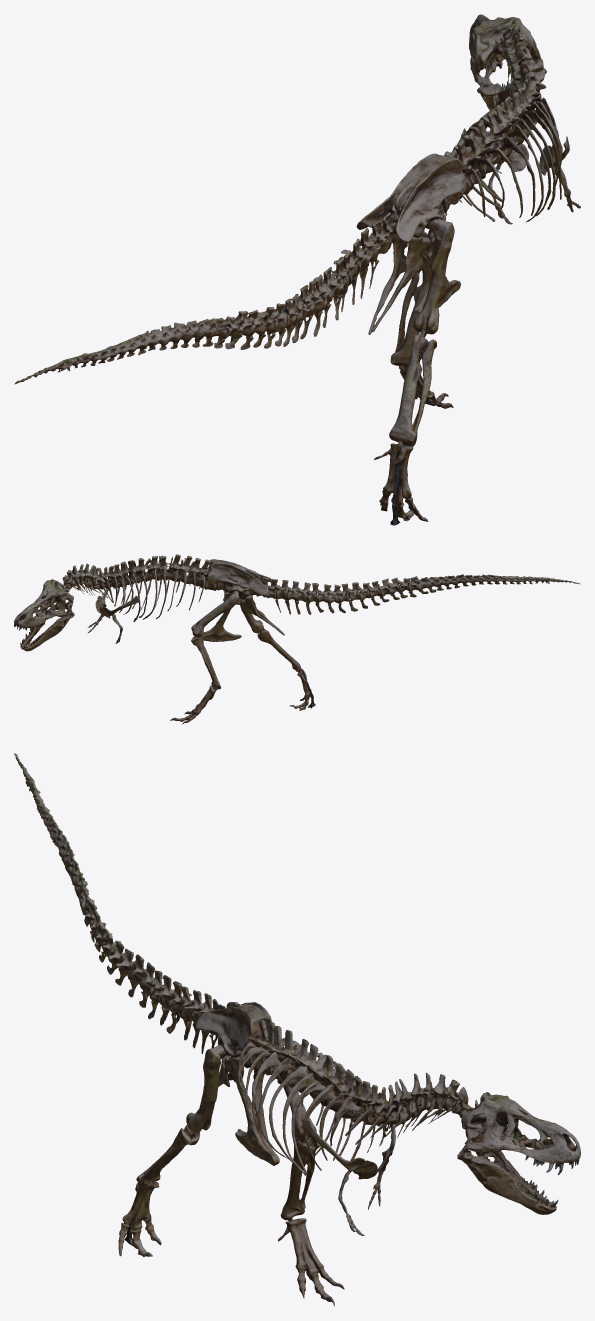
The model's file is guang.glb.
The picture shows the model from 3 angles, top to bottom: view 1: azimuth 30°, elevation 25°; view 2: azimuth 150°, elevation 25°; view 3: azimuth 270°, elevation 25°; orthographic projection. The views are drawn at different scales.
Parts seen in each view (by area): view 1: Object_2, Object_3, Object_4, Object_5; view 2: Object_2, Object_3, Object_4, Object_5; view 3: Object_2, Object_3, Object_4, Object_5.
Part boxes in pixels (bbox=[...]): Object_2: bbox=[14, 14, 572, 524]; Object_3: bbox=[15, 18, 579, 525]; Object_4: bbox=[16, 15, 580, 525]; Object_5: bbox=[36, 16, 570, 525]; Object_2: bbox=[14, 555, 580, 721]; Object_3: bbox=[15, 555, 570, 720]; Object_4: bbox=[14, 554, 574, 724]; Object_5: bbox=[22, 558, 544, 721]; Object_2: bbox=[14, 753, 580, 1304]; Object_3: bbox=[14, 754, 578, 1303]; Object_4: bbox=[17, 758, 580, 1306]; Object_5: bbox=[18, 763, 580, 1290].
Bounding box in the file's own units: 8.28 × 3.23 × 5.44.
Materials: 1 (1 with a texture image).
